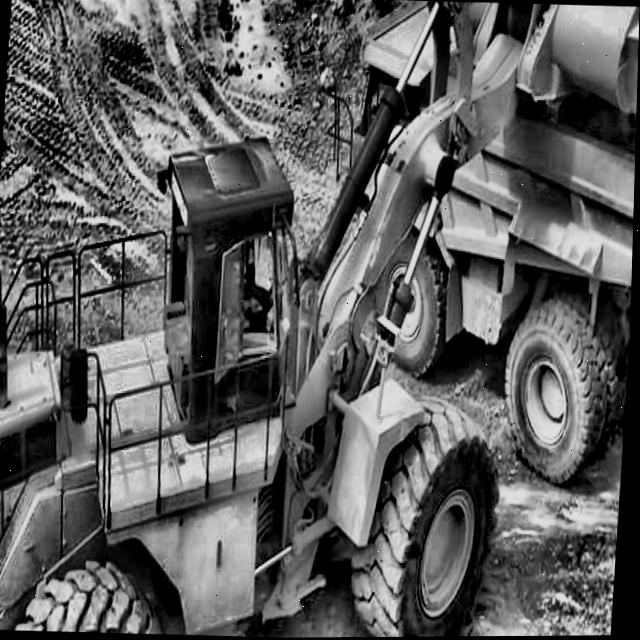buldozerpayloadergrader: (0, 0, 640, 640)
dump_truck: (339, 0, 640, 462)
